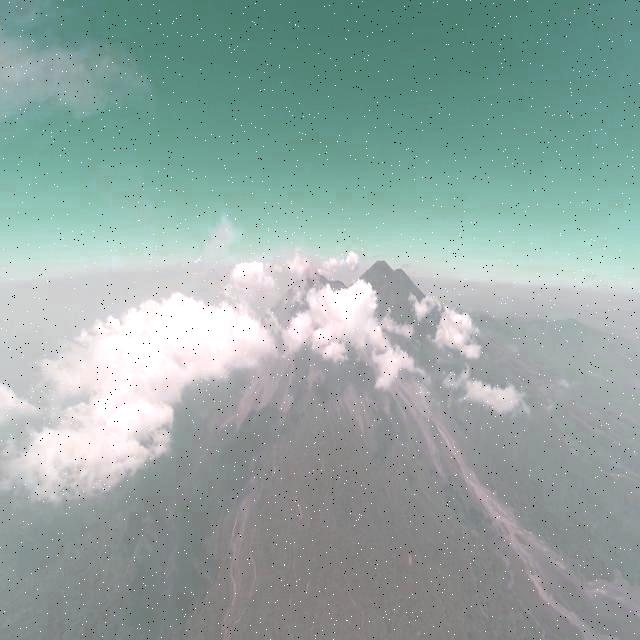Summit: (294, 264, 324, 280)
